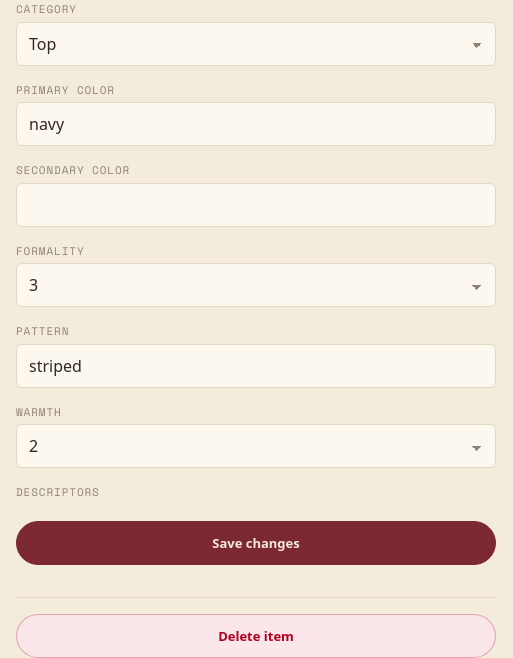
Test: ItemDetail › backs out of delete when Cancel is pressed, without deleting the item
(page scrolled)
Expected: the field labelled "Primary color" is shown, [16,102,496,146]
Arm the confirmation, then back out — the guard must NOT delete.
Click the button "Delete item" at (256, 636), box [16,614,496,657]
(page scrolled)
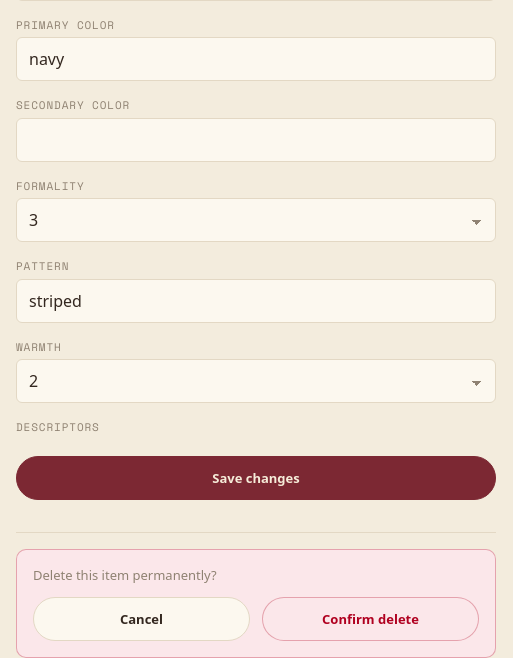
Click the button "Cancel" at (142, 619), box [33,597,250,641]
(page scrolled)
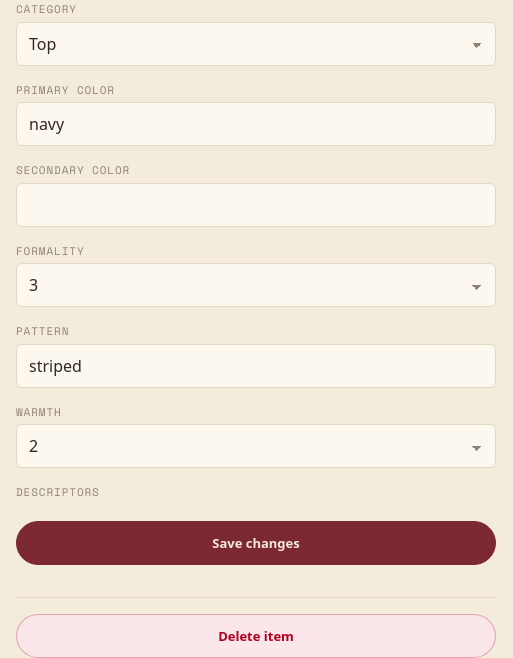
Now the button "Confirm delete" is gone
Now the button "Delete item" is shown, box [16,614,496,657]
